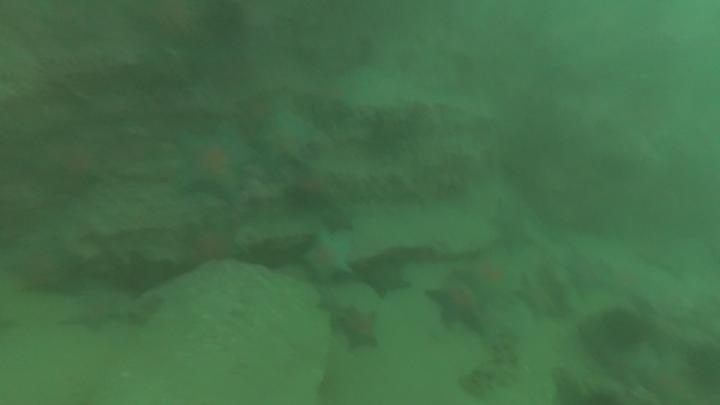echinus: (113, 253, 169, 298), (598, 308, 647, 352), (198, 2, 248, 45), (683, 340, 720, 394)
holothurian: (458, 329, 521, 401)
starfish: (171, 126, 256, 204), (22, 134, 105, 200), (3, 233, 86, 297), (250, 109, 318, 175), (425, 274, 488, 334), (177, 219, 245, 271), (58, 290, 132, 336), (298, 230, 355, 287), (456, 254, 519, 303), (640, 353, 699, 405), (334, 305, 383, 354), (356, 258, 412, 300), (513, 273, 561, 322), (564, 253, 615, 299), (319, 204, 358, 236)
